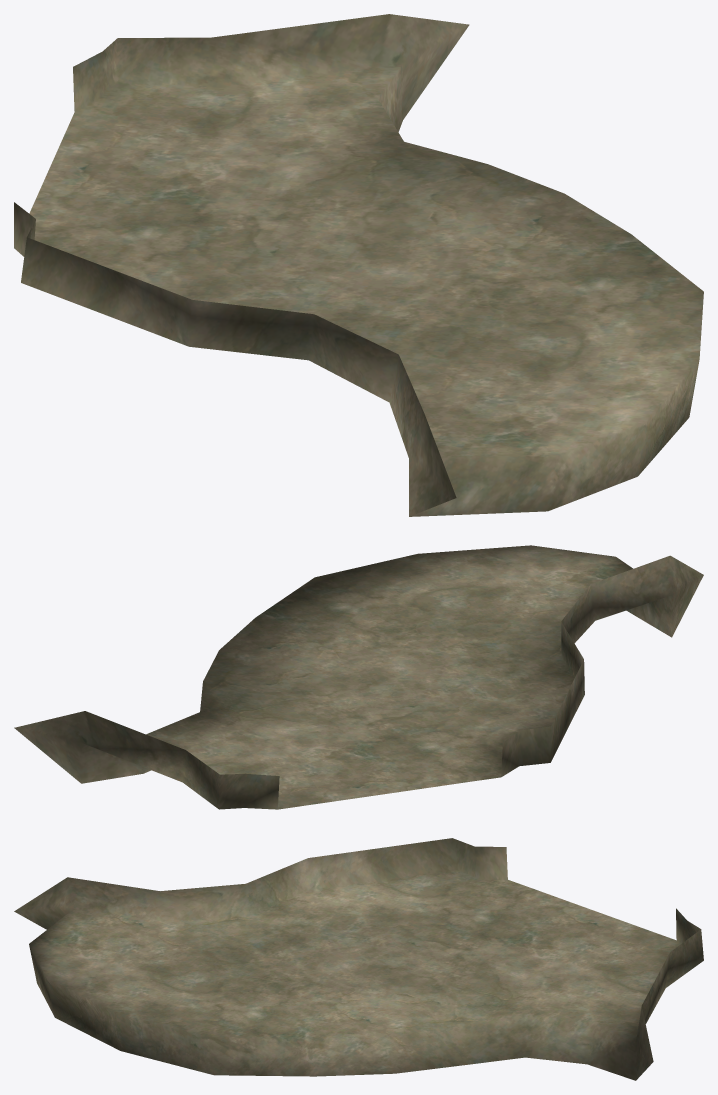
Rendered from EKH_CAVERNS_PS_CA_PLATFORM11114.fbx.
The picture shows the model from 3 angles, top to bottom: view 1: azimuth 30°, elevation 25°; view 2: azimuth 150°, elevation 25°; view 3: azimuth 270°, elevation 25°; orthographic projection. The views are drawn at different scales.
Parts seen in each view (by area): view 1: EKH_CAVERNS_PS_CA_PLATFORM11114; view 2: EKH_CAVERNS_PS_CA_PLATFORM11114; view 3: EKH_CAVERNS_PS_CA_PLATFORM11114.
Boxes of the visible parts, box(x1,y1,x2,y2) form: EKH_CAVERNS_PS_CA_PLATFORM11114: box(14, 14, 703, 516); EKH_CAVERNS_PS_CA_PLATFORM11114: box(14, 545, 703, 809); EKH_CAVERNS_PS_CA_PLATFORM11114: box(14, 838, 703, 1080).
Bounding box in the file's own units: 65625 × 11168 × 96560.
1 material, 1 textured.
